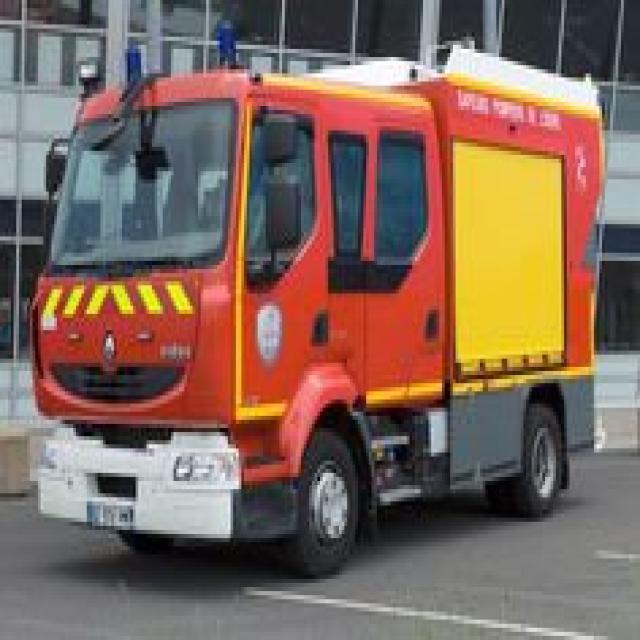emergency: (29, 17, 606, 567)
